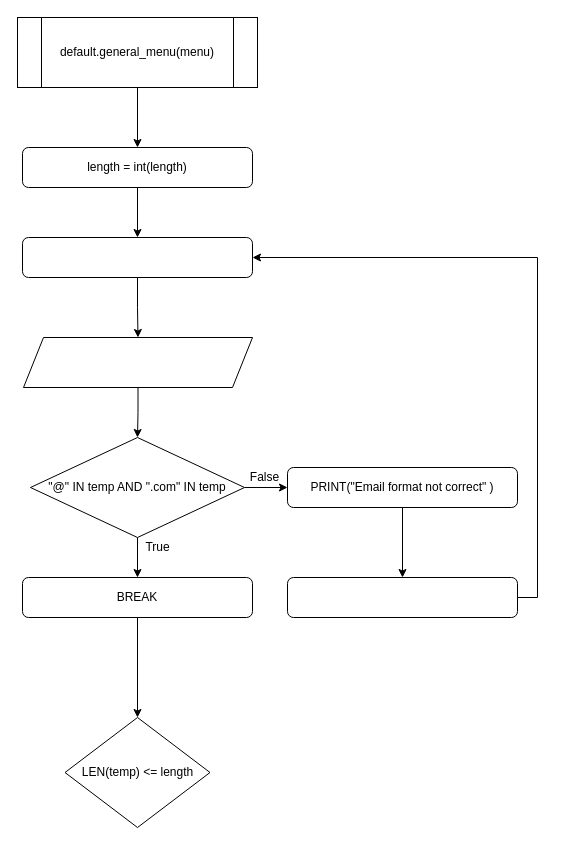
The diagram is 563 pixels wide and 845 high, and some of its shapes have lost their labels. The shapes that lost their labels are listed below. From the top down, each one's centre as x and y in pixels, then its label:
pixel 137 257: PRINT(" ")
pixel 137 362: READ temp
pixel 402 597: PRINT("")
